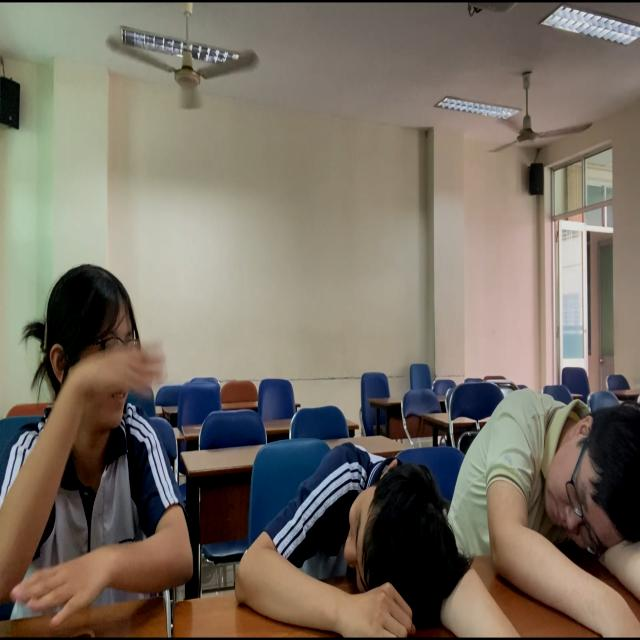sleep: (231, 428, 488, 640), (468, 359, 640, 640)
